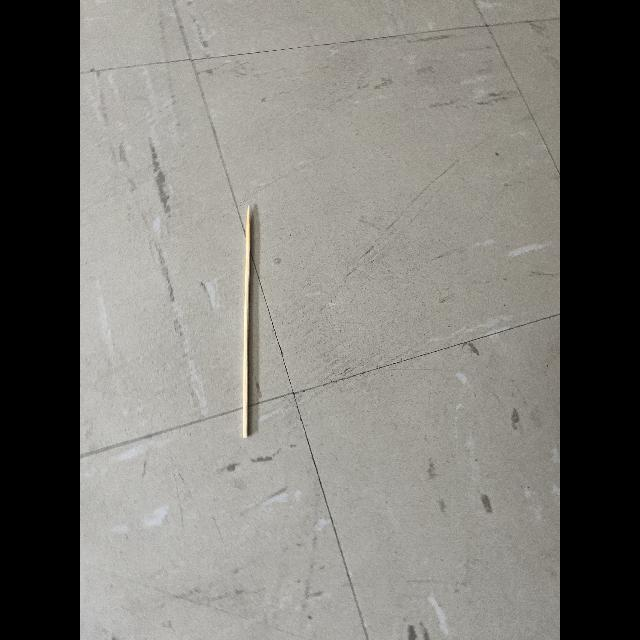stick: (228, 197, 268, 451)
